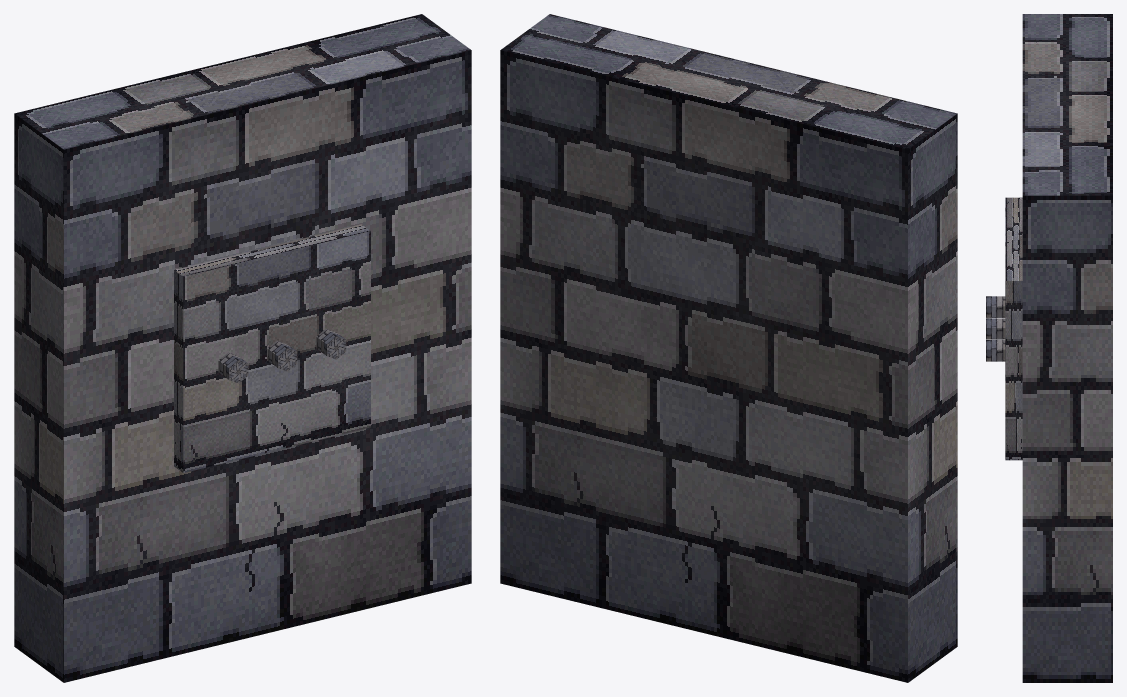
File: catacumba_parede_lancador_dardos.glb
The picture shows the model from 3 angles, left to right: view 1: azimuth 30°, elevation 25°; view 2: azimuth 150°, elevation 25°; view 3: azimuth 270°, elevation 25°; orthographic projection. The views are drawn at different scales.
Parts seen in each view (by area): view 1: catacumba_parede_lancador_dardos; view 2: catacumba_parede_lancador_dardos; view 3: catacumba_parede_lancador_dardos.
Part boxes in pixels (x1,y1,x2,y2): catacumba_parede_lancador_dardos: (14,14,471,682); catacumba_parede_lancador_dardos: (500,14,957,682); catacumba_parede_lancador_dardos: (986,14,1112,682).
Size of the model in its own units: 2 by 2.5 by 0.59.
1 material, 1 textured.
